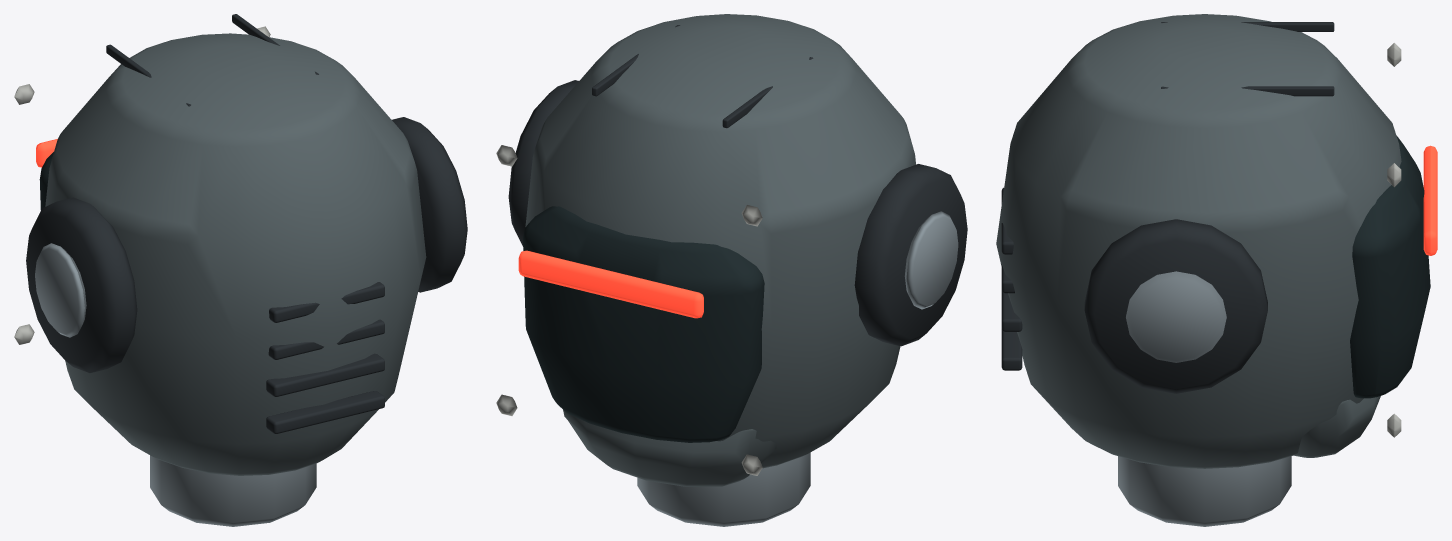
Rendered from heads_03.glb.
3 views of the same model, side by side, from view 1: azimuth 30°, elevation 25°; view 2: azimuth 150°, elevation 25°; view 3: azimuth 270°, elevation 25° (orthographic). The views are drawn at different scales.
Visible parts, largest first — view 1: heads_03_Geometry; view 2: heads_03_Geometry; view 3: heads_03_Geometry.
Boxes of the visible parts, left/top/right/bottom form: heads_03_Geometry: left=14, top=14, right=467, bottom=526; heads_03_Geometry: left=496, top=14, right=967, bottom=526; heads_03_Geometry: left=996, top=14, right=1437, bottom=526.
Size of the model in its own units: 0.29 by 0.315 by 0.2795.
